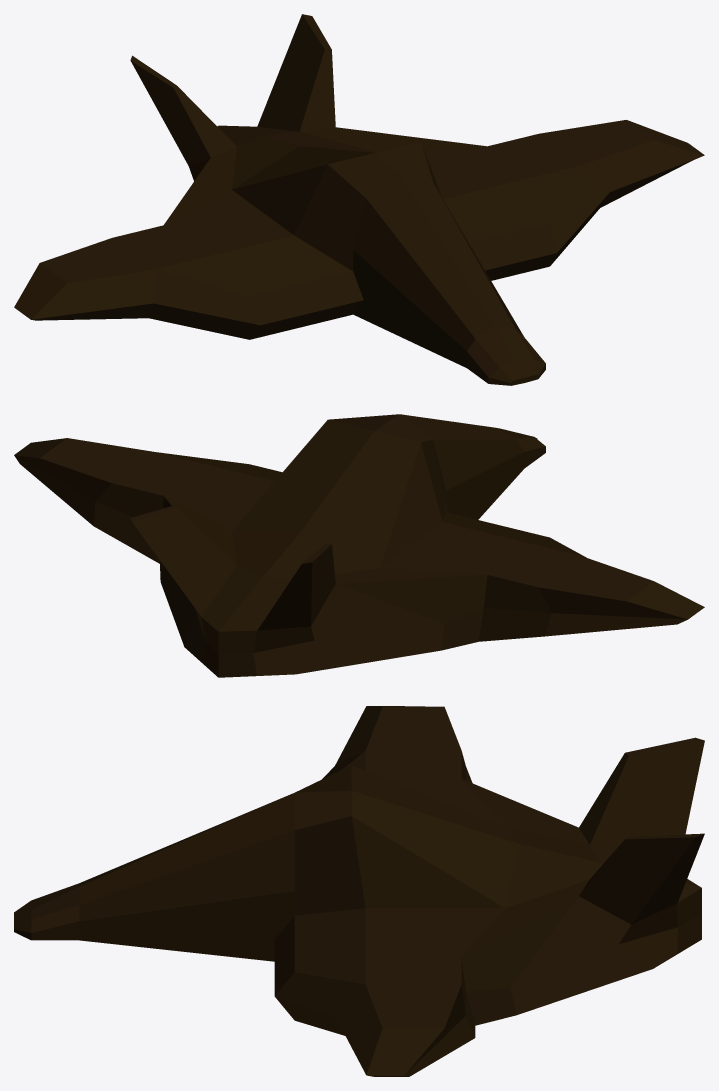
File: LowPolyShip.fbx
3 views of the same model, one above another, from view 1: azimuth 30°, elevation 25°; view 2: azimuth 150°, elevation 25°; view 3: azimuth 270°, elevation 25° (orthographic). The views are drawn at different scales.
Visible parts, largest first — view 1: Cube; view 2: Cube; view 3: Cube.
Boxes of the visible parts, <box> form: Cube: <box>14,14,704,385</box>; Cube: <box>14,414,704,677</box>; Cube: <box>14,706,704,1076</box>.
Bounding box in the file's own units: 723 × 139 × 572.
